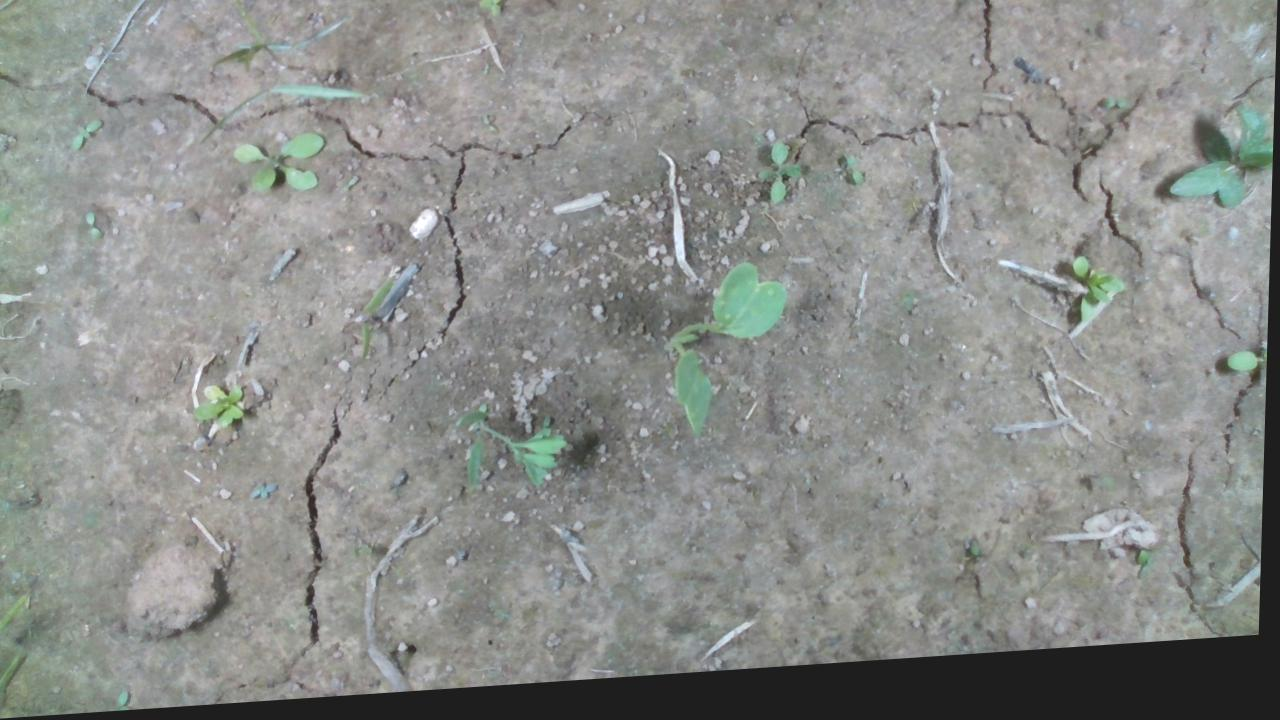weed: (228, 134, 327, 201), (1071, 267, 1125, 340), (753, 146, 806, 216), (188, 380, 248, 436), (66, 117, 102, 153), (842, 159, 866, 198), (475, 0, 505, 29), (250, 480, 280, 506), (83, 209, 104, 245)
